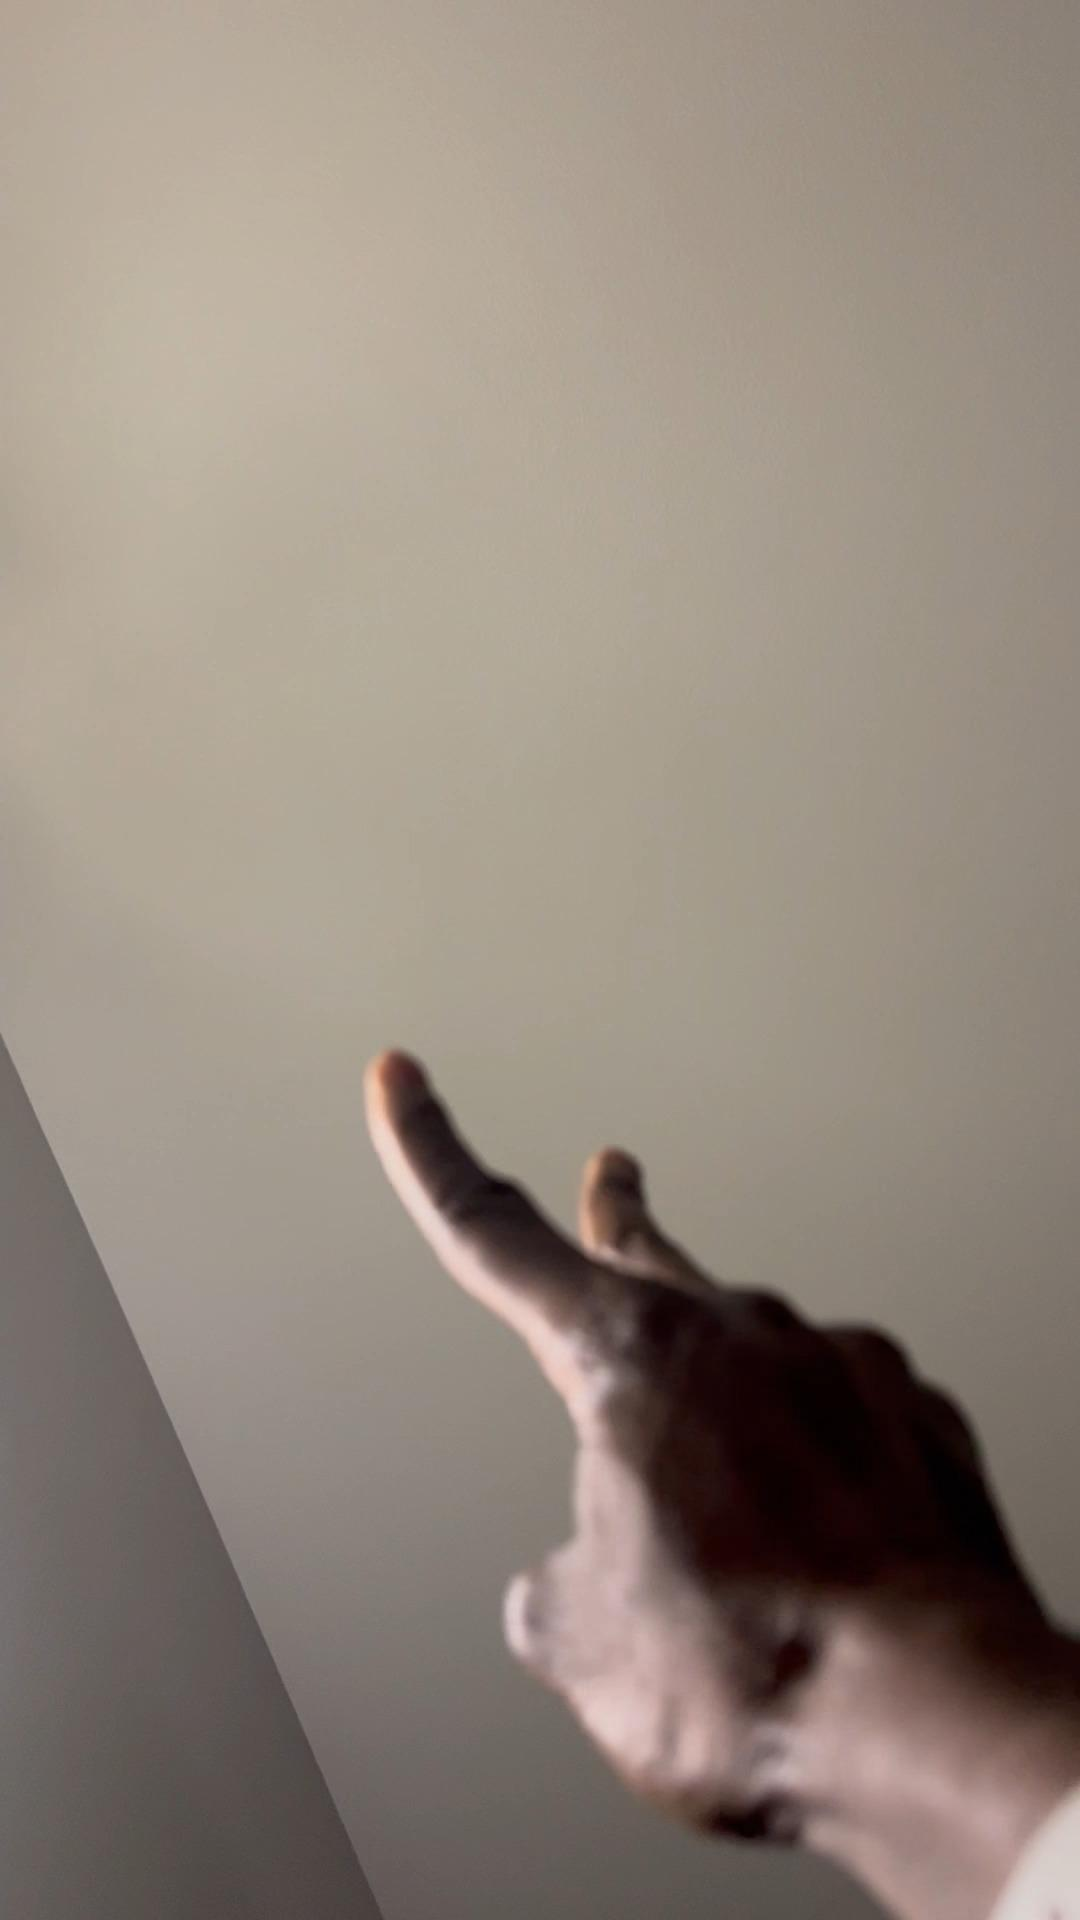Scissors: (364, 1043, 1029, 1836)
